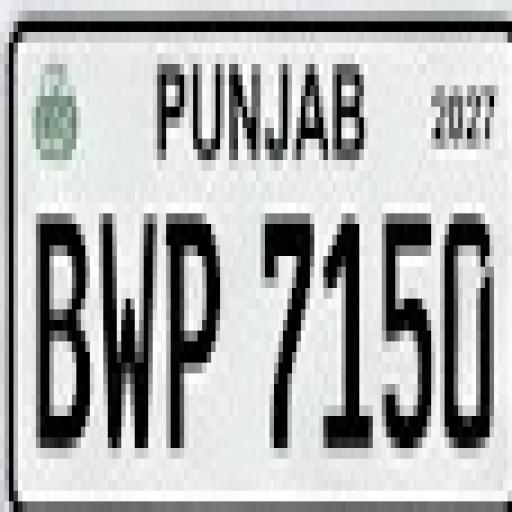0: (444, 202, 502, 472)
1: (318, 208, 376, 475)
5: (378, 171, 438, 468)
7: (258, 192, 314, 478)
B: (38, 199, 90, 470)
P: (162, 196, 227, 468)
W: (97, 212, 155, 457)
